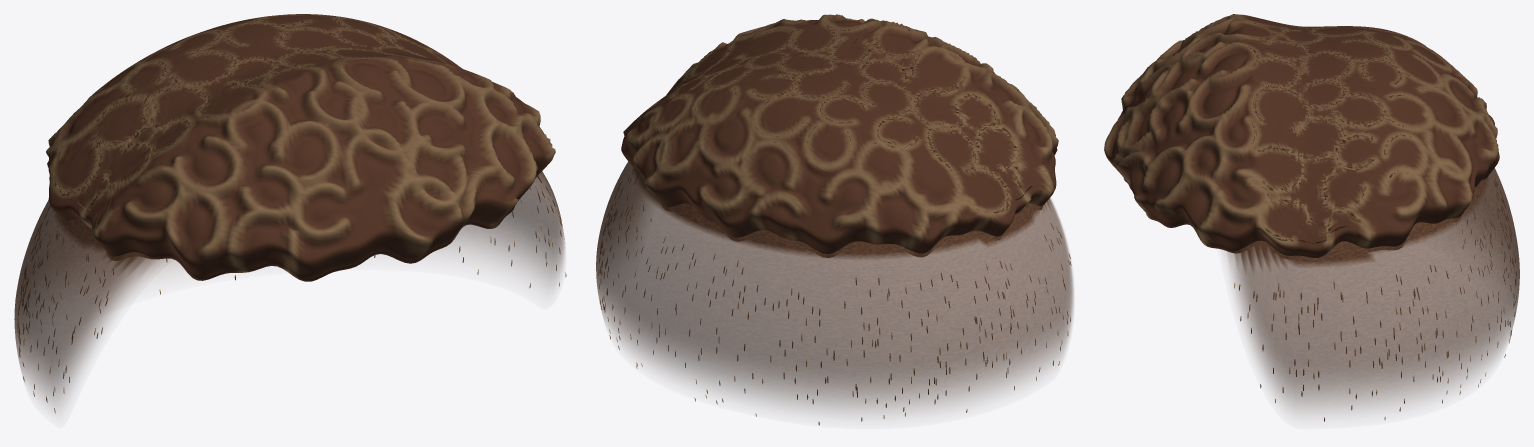
The model's file is Highlights-a24d86437274251-hair.glb.
3 views of the same model, side by side, from view 1: azimuth 30°, elevation 25°; view 2: azimuth 150°, elevation 25°; view 3: azimuth 270°, elevation 25° (orthographic). The views are drawn at different scales.
Visible parts, largest first — view 1: 226 hair / Hair / sculpted curly crown251.001, 226 hair / Hair / clipped grain251.001, 226 hair / Hair / close cut strokes251.001; view 2: 226 hair / Hair / clipped grain251.001, 226 hair / Hair / sculpted curly crown251.001, 226 hair / Hair / close cut strokes251.001; view 3: 226 hair / Hair / sculpted curly crown251.001, 226 hair / Hair / clipped grain251.001, 226 hair / Hair / close cut strokes251.001.
Part boxes in pixels (x1,y1,x2,y2): 226 hair / Hair / sculpted curly crown251.001: (46, 14, 555, 281); 226 hair / Hair / clipped grain251.001: (14, 171, 564, 408); 226 hair / Hair / close cut strokes251.001: (17, 176, 566, 413); 226 hair / Hair / clipped grain251.001: (596, 161, 1073, 413); 226 hair / Hair / sculpted curly crown251.001: (621, 14, 1058, 257); 226 hair / Hair / close cut strokes251.001: (599, 169, 1071, 425); 226 hair / Hair / sculpted curly crown251.001: (1104, 14, 1499, 258); 226 hair / Hair / clipped grain251.001: (1225, 168, 1519, 413); 226 hair / Hair / close cut strokes251.001: (1234, 178, 1516, 421).
Size of the model in its own units: 0.9812 by 0.6367 by 0.8042.
Materials: 3 (1 with a texture image).
